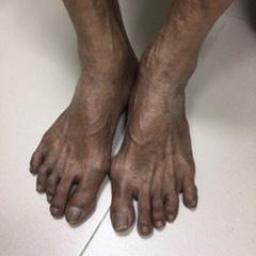Dorsal View -Both Feet-: (24, 22, 214, 241)
